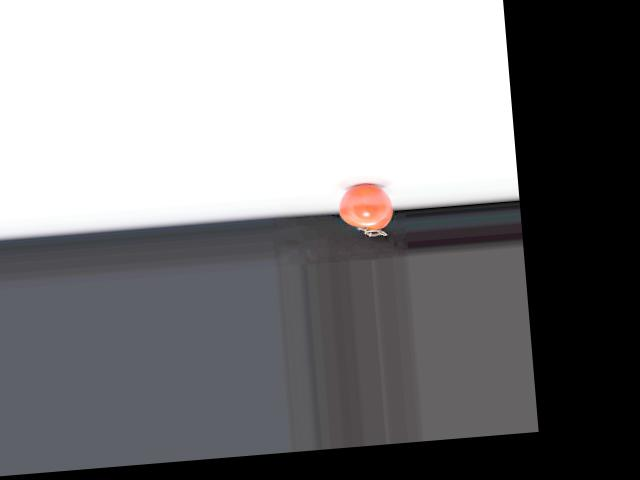tomato: (336, 181, 393, 232)
